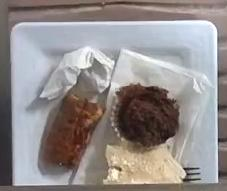dessert: (116, 83, 177, 145), (103, 144, 186, 184)
pizza_crust: (44, 92, 103, 168)
